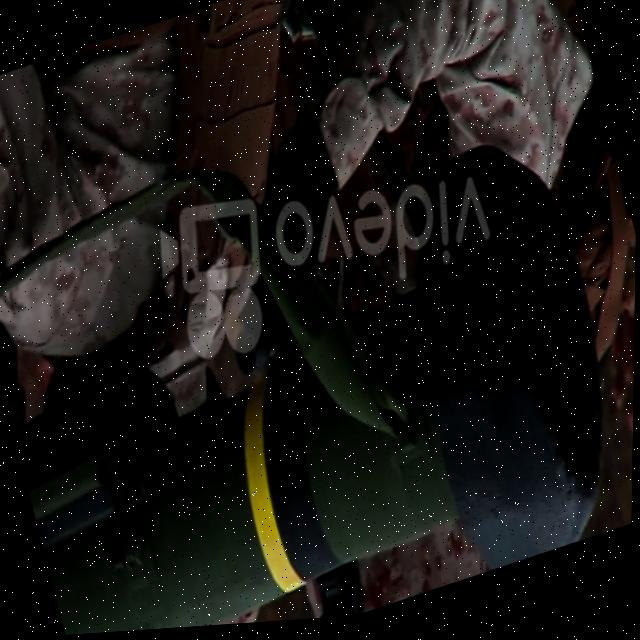rocket: (0, 37, 639, 640)
